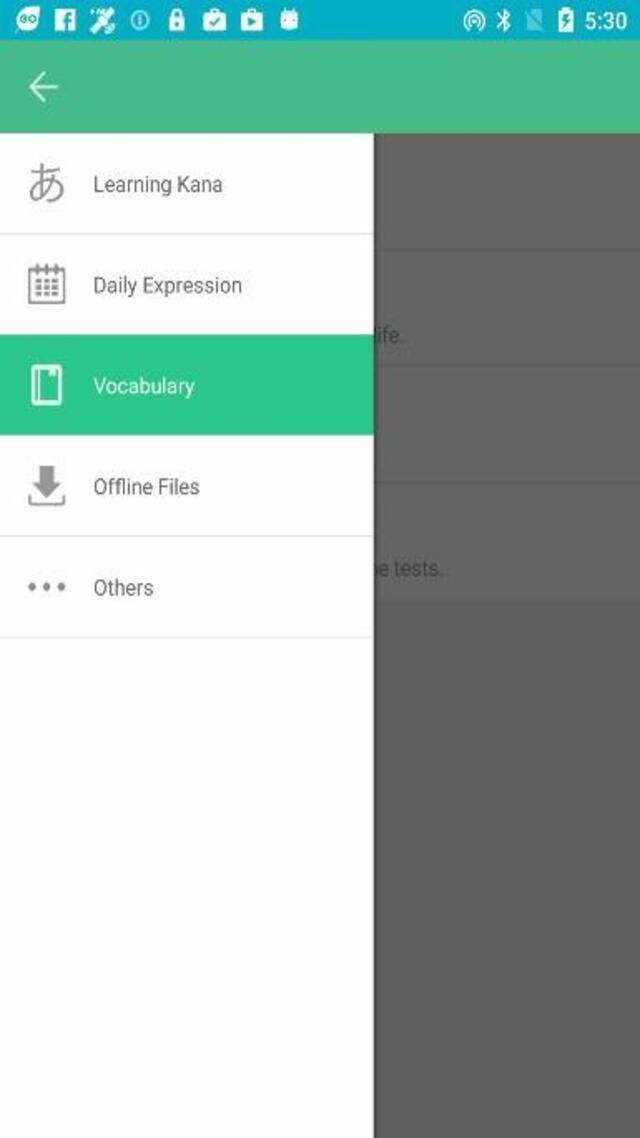Icon: (28, 264, 66, 305), (28, 465, 66, 506), (29, 162, 64, 204), (30, 364, 63, 404), (28, 70, 58, 104), (28, 581, 66, 592)
Text: (94, 275, 242, 298), (93, 173, 223, 196), (92, 375, 195, 400), (94, 475, 200, 496), (92, 577, 154, 597)
